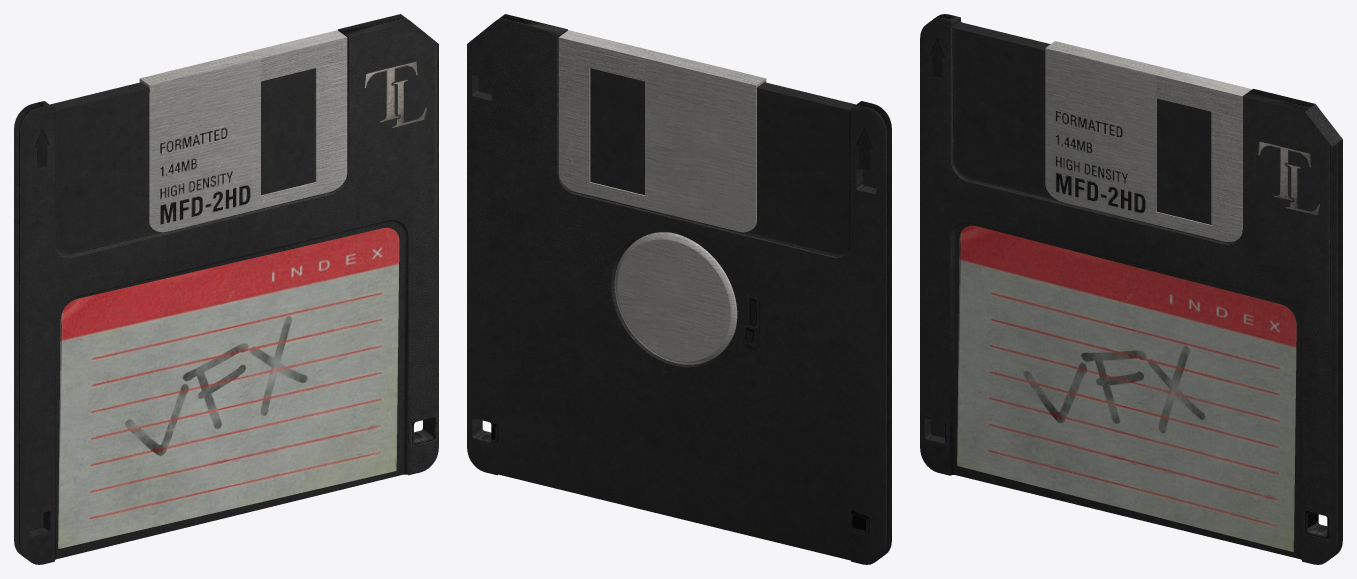
File: floppy_disk.gltf
3 renders of one model, left to right at view 1: azimuth 30°, elevation 25°; view 2: azimuth 150°, elevation 25°; view 3: azimuth 330°, elevation 25°, orthographic.
Parts seen in each view (by area): view 1: floppy, sticker, metal_top, metal_top.001; view 2: floppy, metal_top.001, metal cylinder, metal_top; view 3: floppy, sticker, metal_top, metal_top.001.
Boxes of the visible parts, box(x1,y1,x2,y2) form: floppy: box(14, 14, 438, 564); sticker: box(58, 227, 399, 548); metal_top: box(144, 33, 347, 232); metal_top.001: box(139, 30, 341, 83); floppy: box(467, 14, 891, 564); metal_top.001: box(558, 33, 761, 232); metal cylinder: box(614, 232, 737, 364); metal_top: box(564, 30, 766, 83); floppy: box(920, 14, 1342, 564); sticker: box(957, 225, 1296, 552); metal_top: box(1045, 44, 1246, 241); metal_top.001: box(1050, 41, 1251, 92).
Size of the model in its own units: 0.89 by 0.93 by 0.0404.
5 materials, 5 textured.
